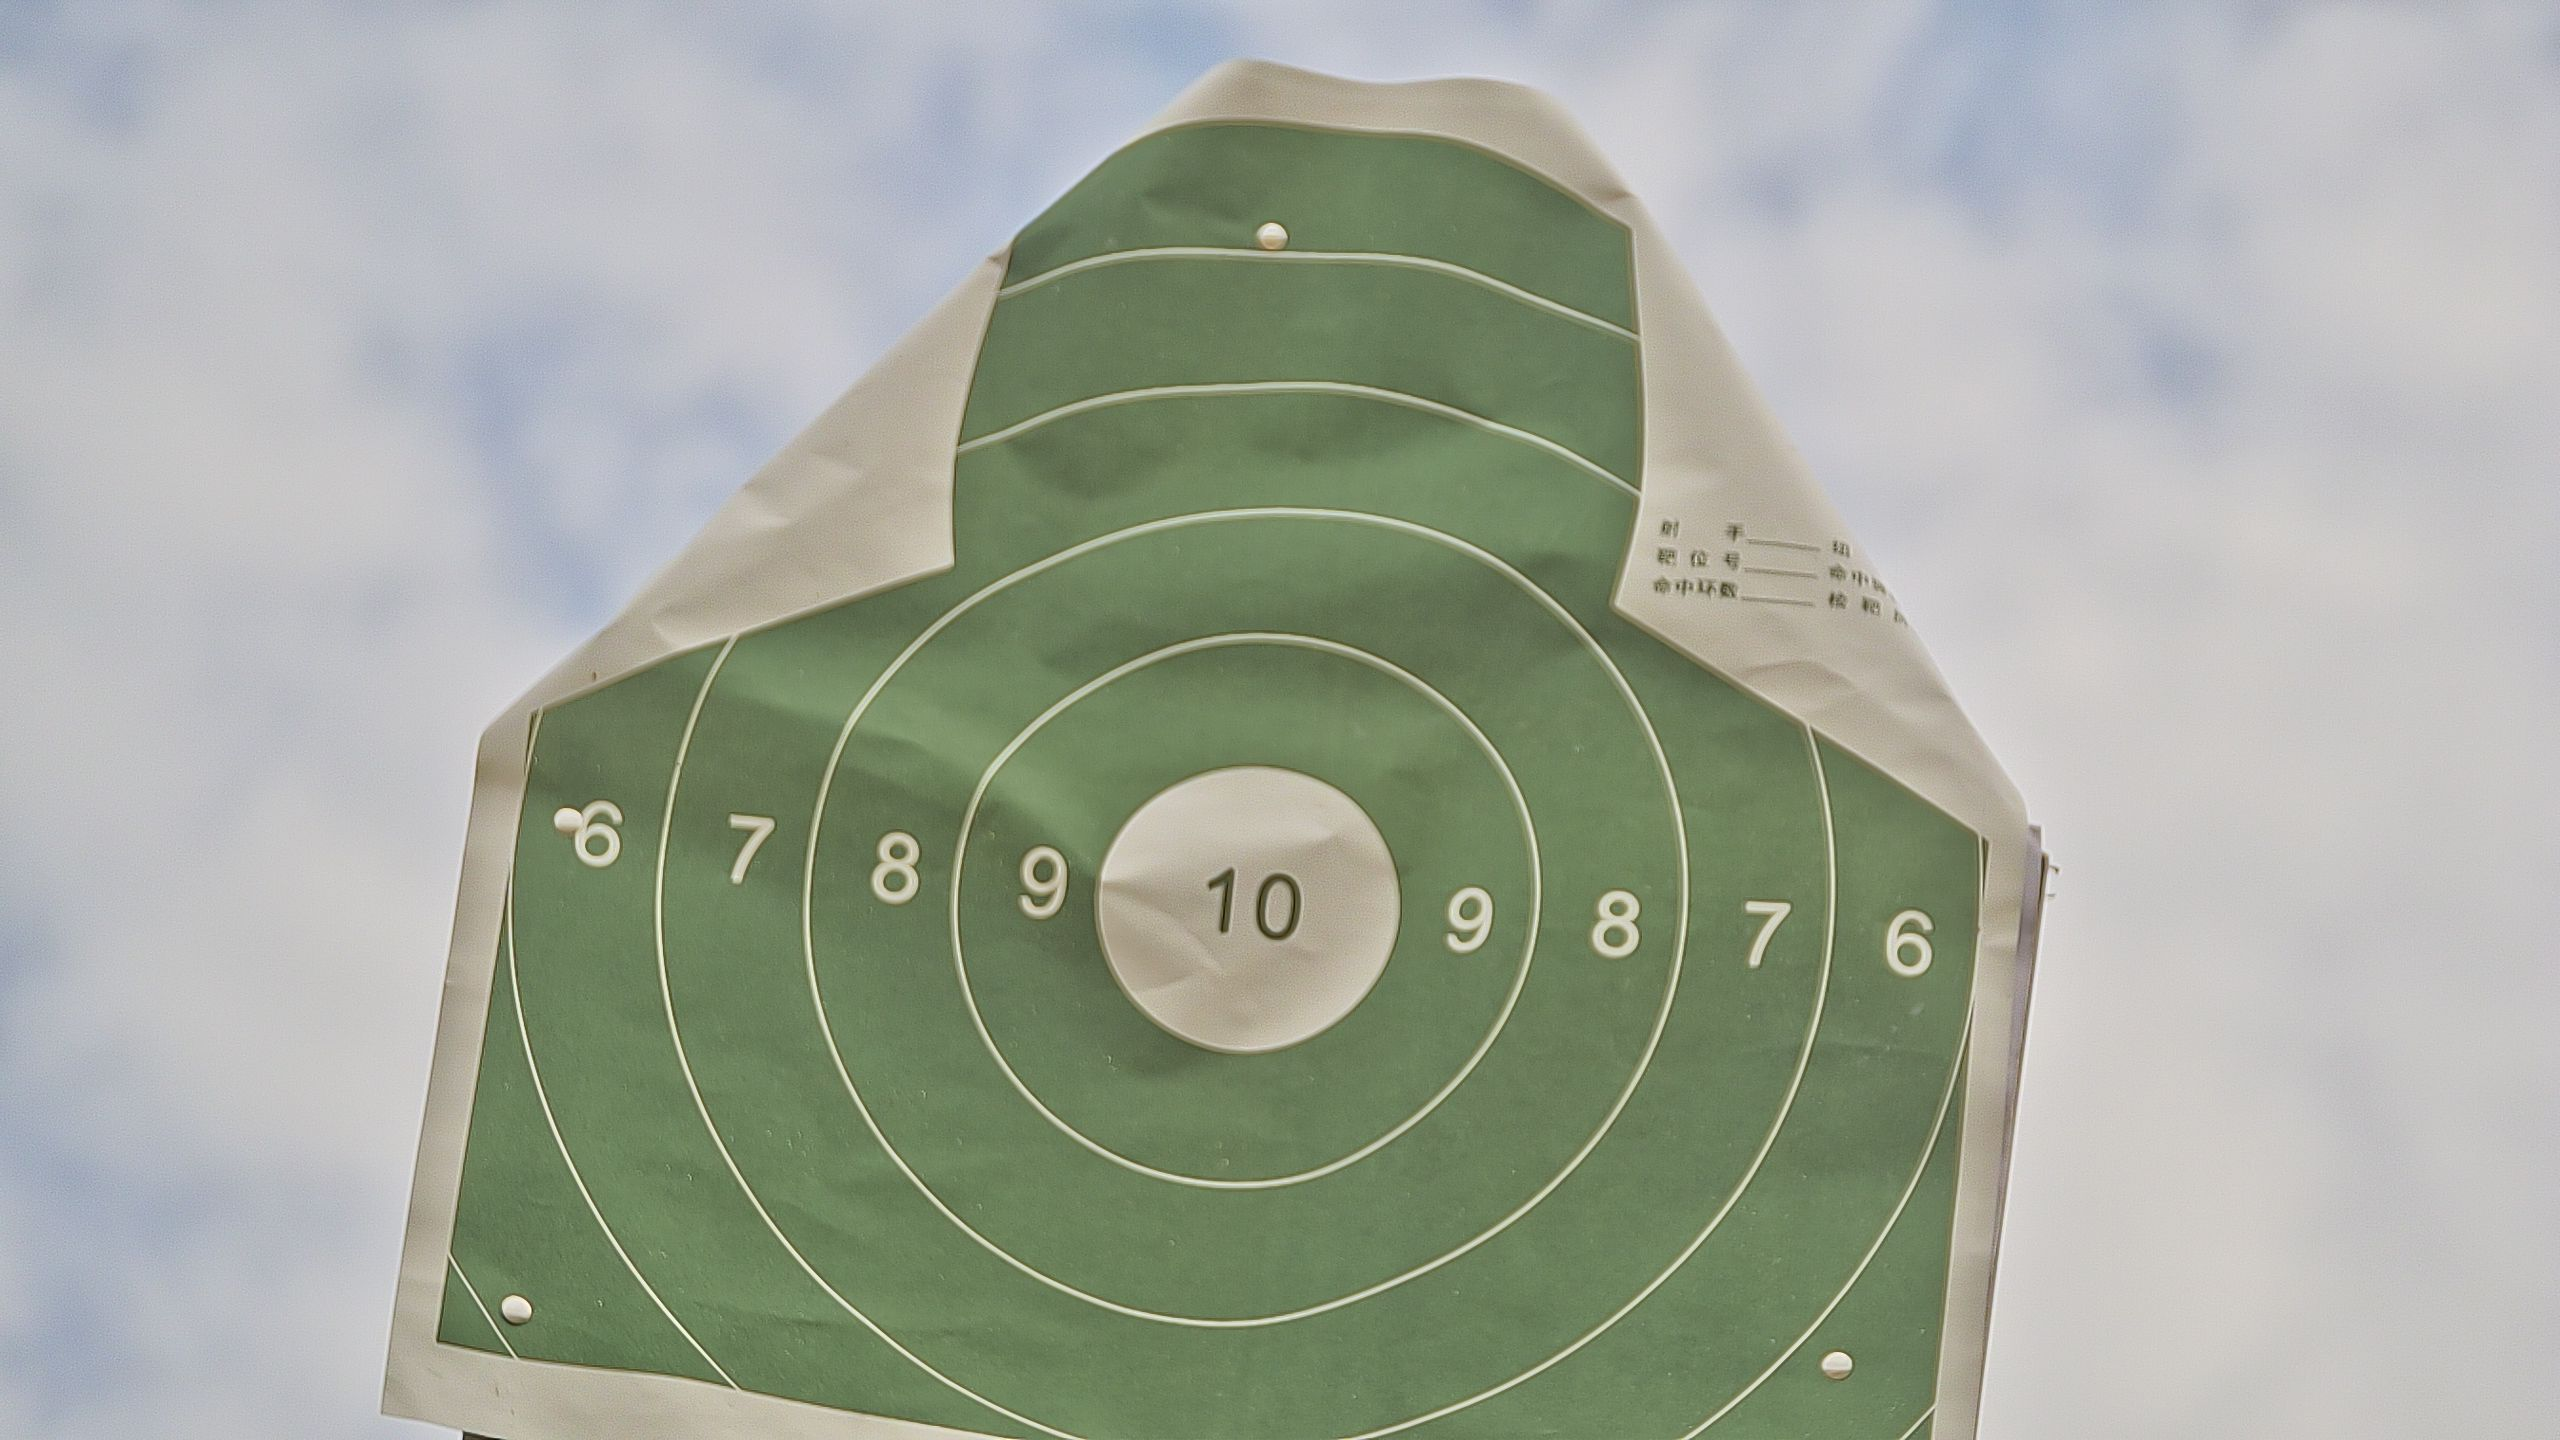kernel: (1240, 900, 1245, 902)
target: (445, 120, 1997, 1440)
ten: (1088, 763, 1400, 1057)
